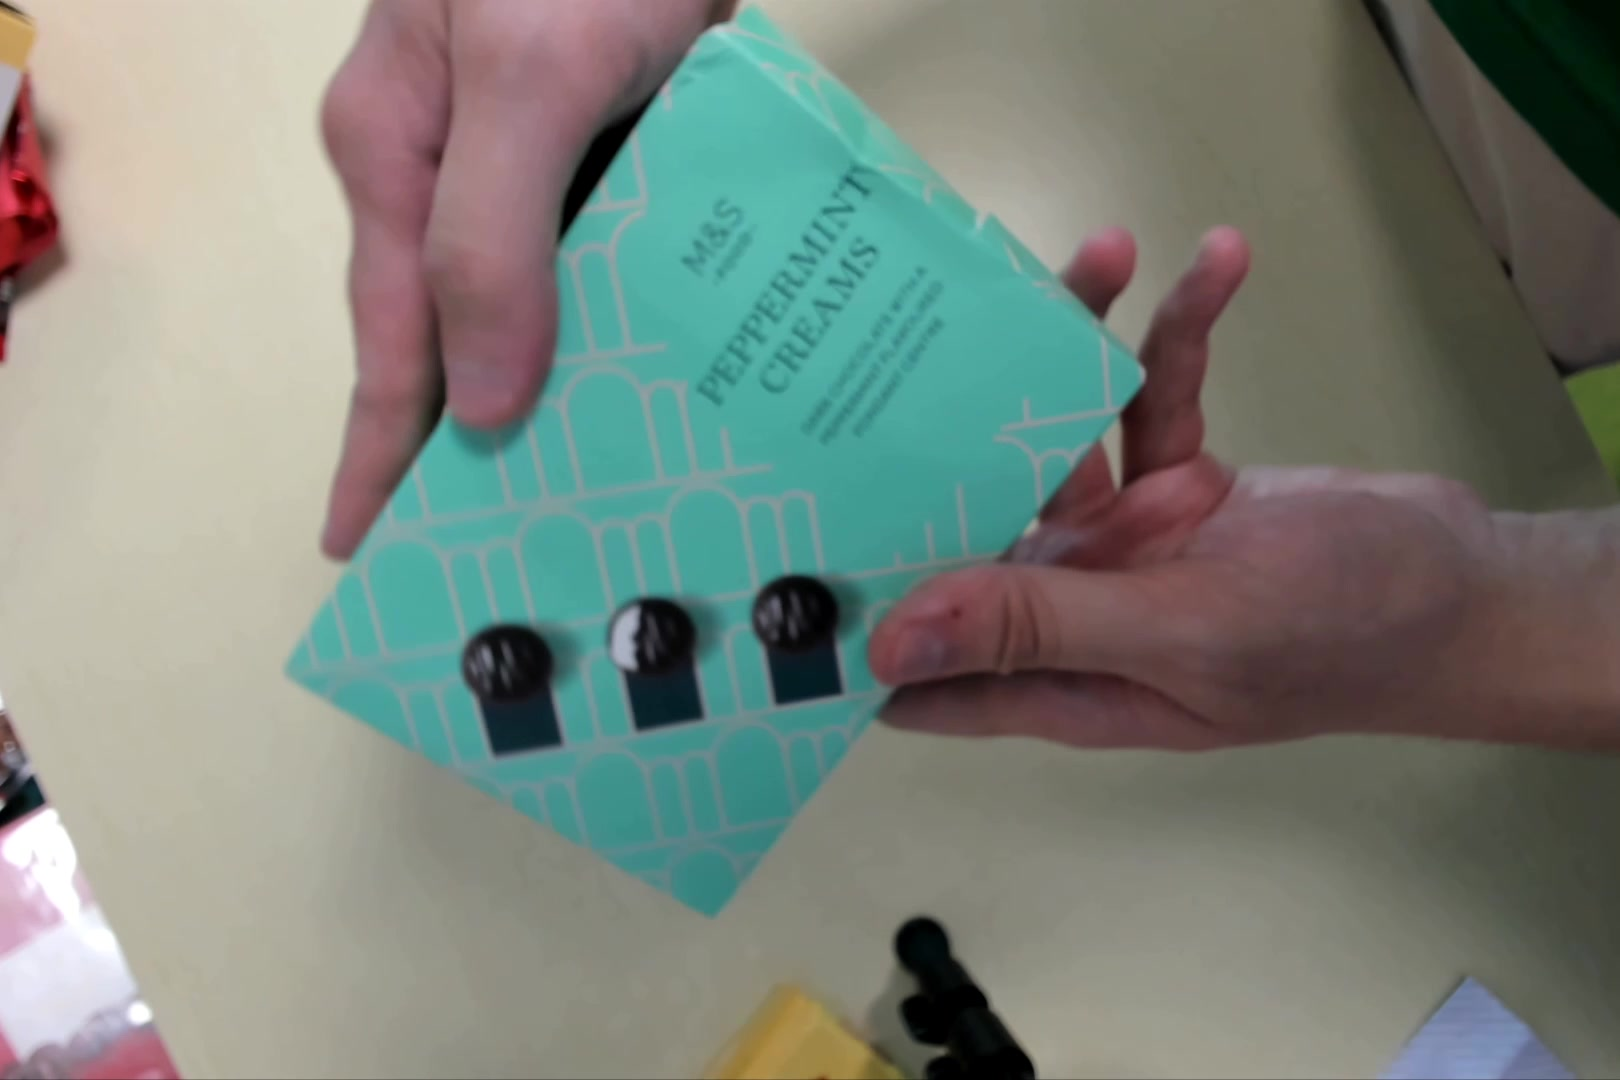SweetsChocolatesOthers_100-199g_NonHalal_NonHealthy: (287, 28, 1147, 921)
